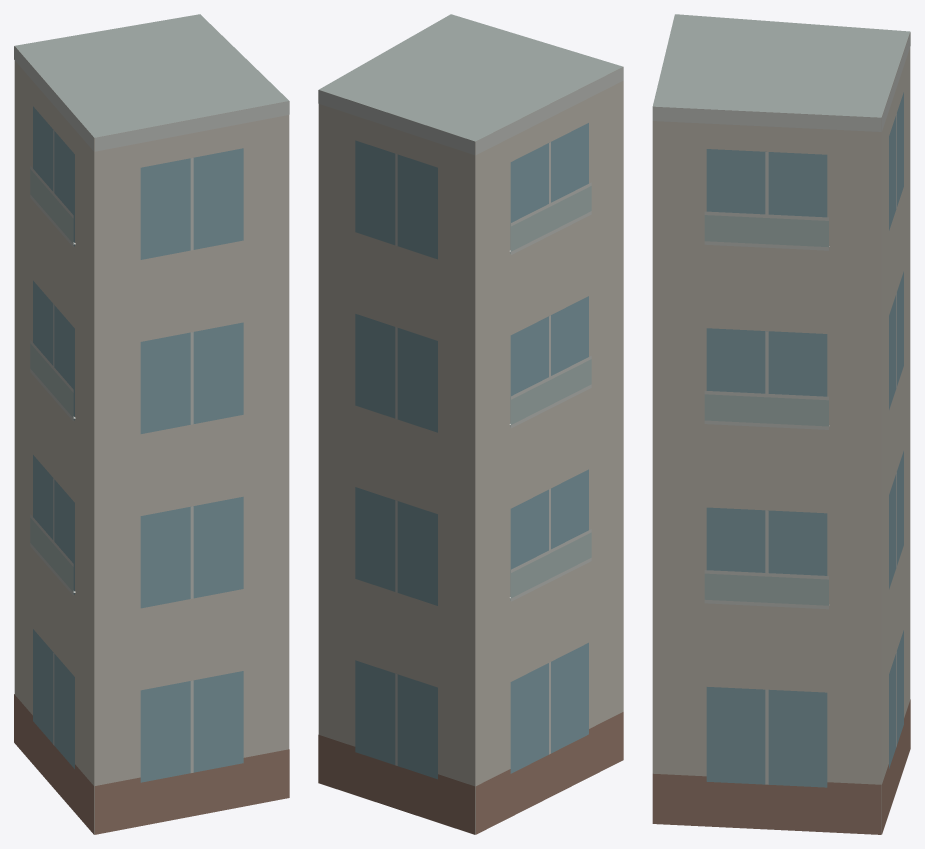
The model's file is survey-upis-32957500.glb.
3 views of the same model, side by side, from view 1: azimuth 30°, elevation 25°; view 2: azimuth 150°, elevation 25°; view 3: azimuth 270°, elevation 25° (orthographic). The views are drawn at different scales.
Parts seen in each view (by area): view 1: survey-upis-32957500.tmp; view 2: survey-upis-32957500.tmp; view 3: survey-upis-32957500.tmp.
Part boxes in pixels (left/top/right/bottom): survey-upis-32957500.tmp: left=14, top=14, right=289, bottom=834; survey-upis-32957500.tmp: left=318, top=14, right=623, bottom=834; survey-upis-32957500.tmp: left=652, top=14, right=910, bottom=834.
Size of the model in its own units: 3.79 by 12.2 by 3.99.
